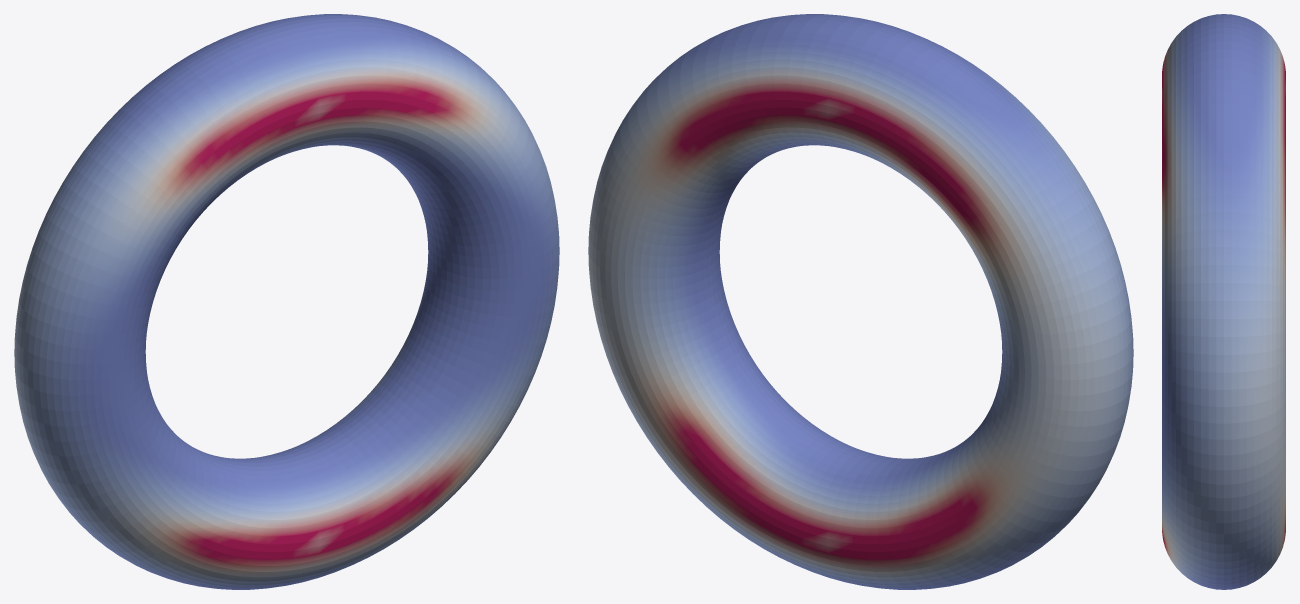
3 renders of one model, left to right at view 1: azimuth 30°, elevation 25°; view 2: azimuth 150°, elevation 25°; view 3: azimuth 270°, elevation 25°, orthographic. The views are drawn at different scales.
Visible parts, largest first — view 1: world; view 2: world; view 3: world.
Part boxes in pixels (box(x1,y1,x2,y2)): world: box(14, 14, 559, 589); world: box(588, 14, 1133, 589); world: box(1162, 14, 1285, 589).
Bounding box in the file's own units: 20.4 × 20.4 × 4.39.
